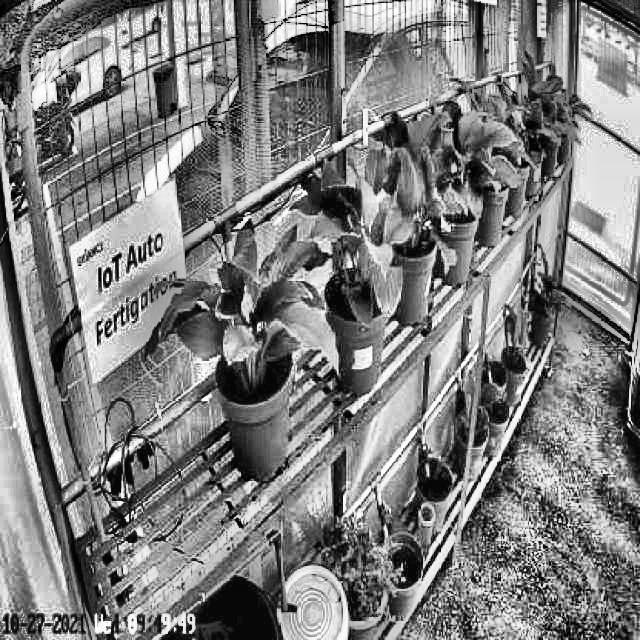plants: (149, 222, 340, 388), (312, 156, 406, 342), (426, 73, 514, 219), (370, 111, 452, 262)
